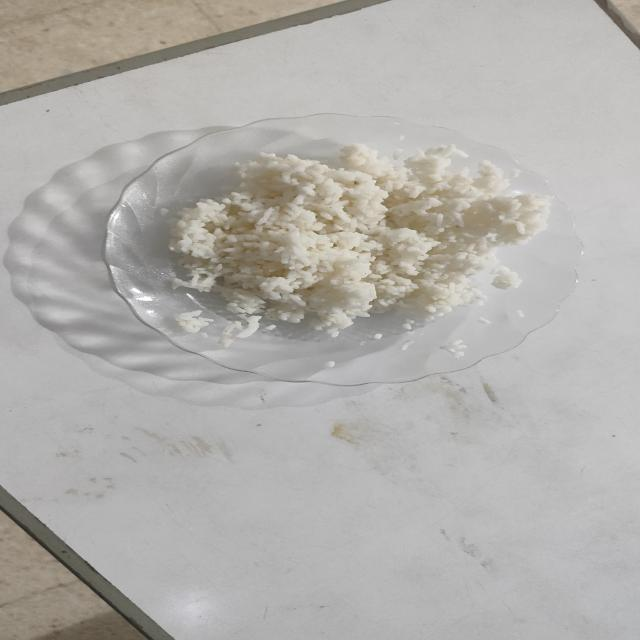nasi_putih: (170, 144, 550, 338)
